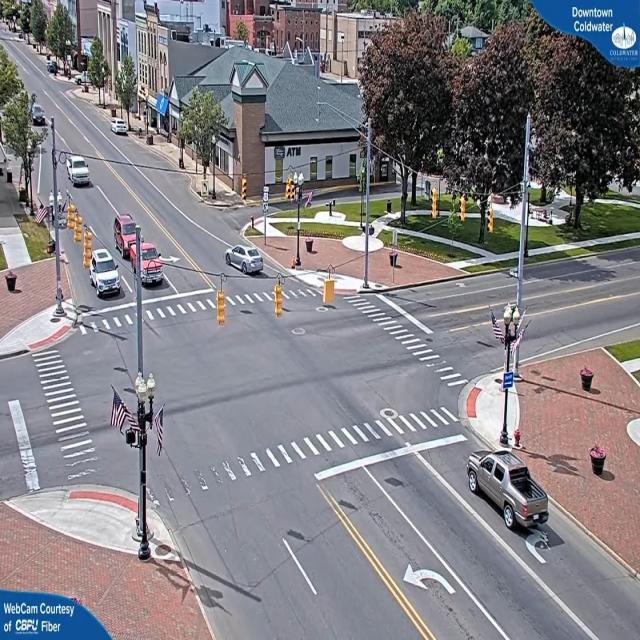car: (464, 450, 550, 532), (88, 251, 123, 297), (132, 239, 162, 288), (225, 246, 265, 276), (114, 212, 140, 258), (67, 156, 90, 188), (112, 120, 128, 136)
